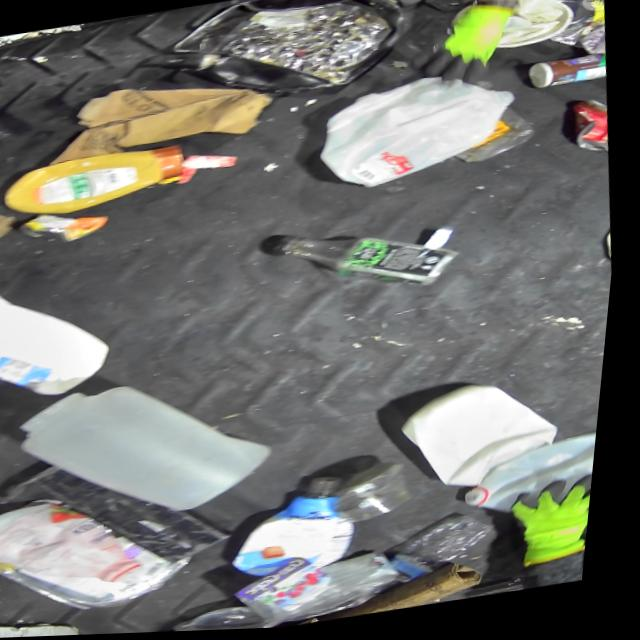can: (16, 203, 118, 252), (543, 0, 611, 57), (562, 100, 616, 165)
milk_jug: (11, 362, 296, 538), (308, 64, 529, 200), (393, 374, 575, 502), (0, 271, 129, 411), (466, 430, 606, 528)
plastic_bottle: (258, 210, 468, 315)
